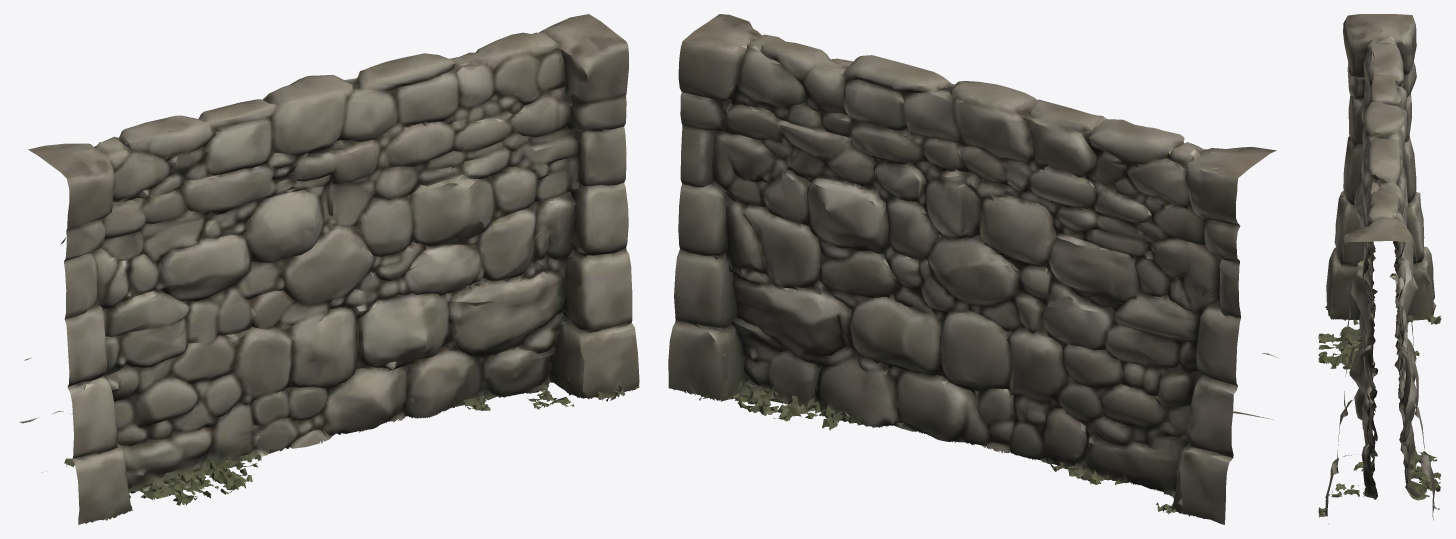
Rendered from WallPillar.glb.
The picture shows the model from 3 angles, left to right: view 1: azimuth 30°, elevation 25°; view 2: azimuth 150°, elevation 25°; view 3: azimuth 270°, elevation 25°; orthographic projection. The views are drawn at different scales.
Visible parts, largest first — view 1: WallPillar; view 2: WallPillar; view 3: WallPillar.
Boxes of the visible parts, x1,y1,x2,y2 form: WallPillar: [19, 14, 639, 524]; WallPillar: [668, 14, 1277, 524]; WallPillar: [1318, 14, 1441, 523].
Bounding box in the file's own units: 2.39 × 1.44 × 0.5509.
1 material, 1 textured.
